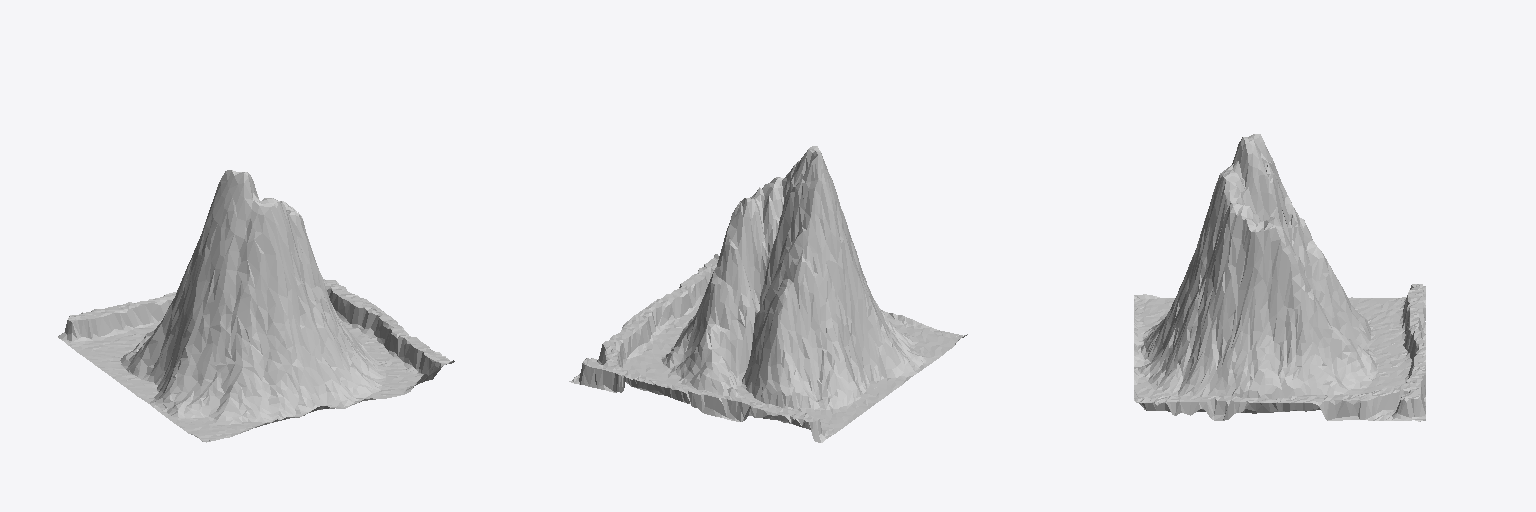
File: VolcanicMountain.obj
The picture shows the model from 3 angles: view 1: azimuth 30°, elevation 25°; view 2: azimuth 150°, elevation 25°; view 3: azimuth 270°, elevation 25°; orthographic projection.
Parts seen in each view (by area): view 1: 1.004; view 2: 1.004; view 3: 1.004.
Part boxes in pixels (left/top/right/bottom): 1.004: left=58, top=170, right=454, bottom=442; 1.004: left=569, top=146, right=967, bottom=442; 1.004: left=1134, top=134, right=1425, bottom=421.
Size of the model in its own units: 100 by 78.87 by 100.